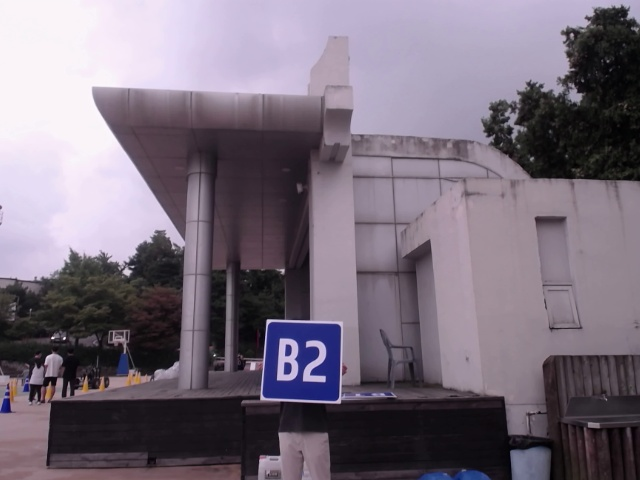delivery_b2: (262, 321, 343, 403)
